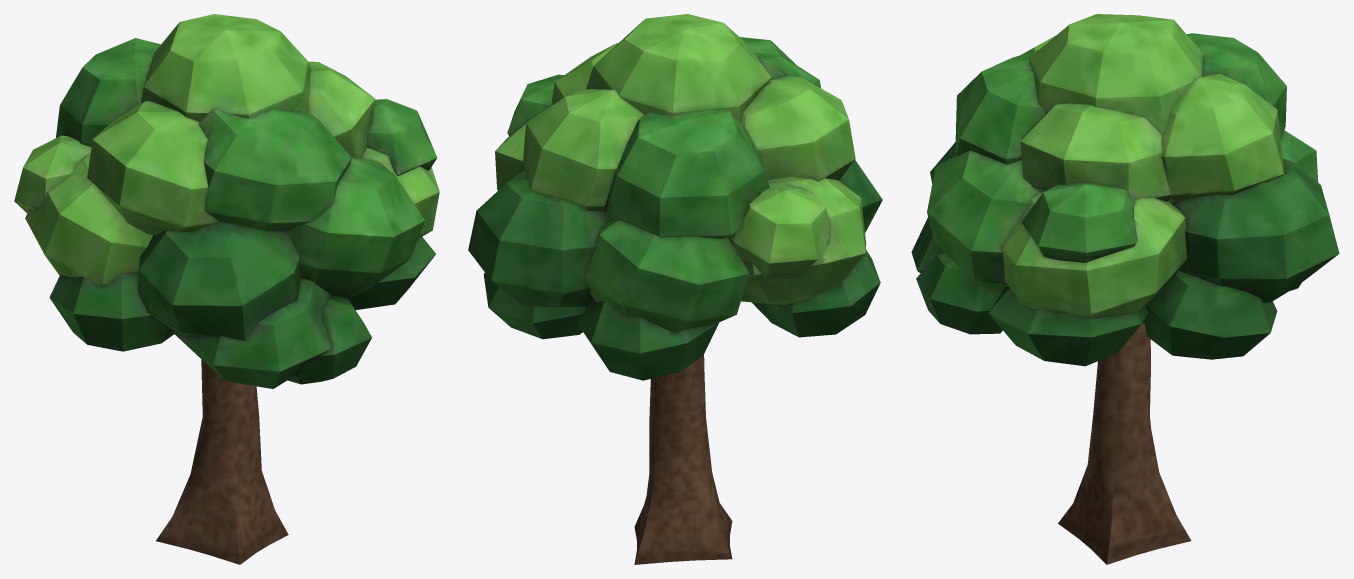
Rendered from tree_broad.glb.
3 renders of one model, left to right at view 1: azimuth 30°, elevation 25°; view 2: azimuth 150°, elevation 25°; view 3: azimuth 270°, elevation 25°, orthographic.
Visible parts, largest first — view 1: Static_Mesh; view 2: Static_Mesh; view 3: Static_Mesh.
Part boxes in pixels (left/top/right/bottom): Static_Mesh: left=14, top=14, right=439, bottom=564; Static_Mesh: left=468, top=14, right=882, bottom=564; Static_Mesh: left=911, top=14, right=1339, bottom=564.
Bounding box in the file's own units: 6.65 × 8.74 × 6.59.
Materials: 1 (1 with a texture image).
